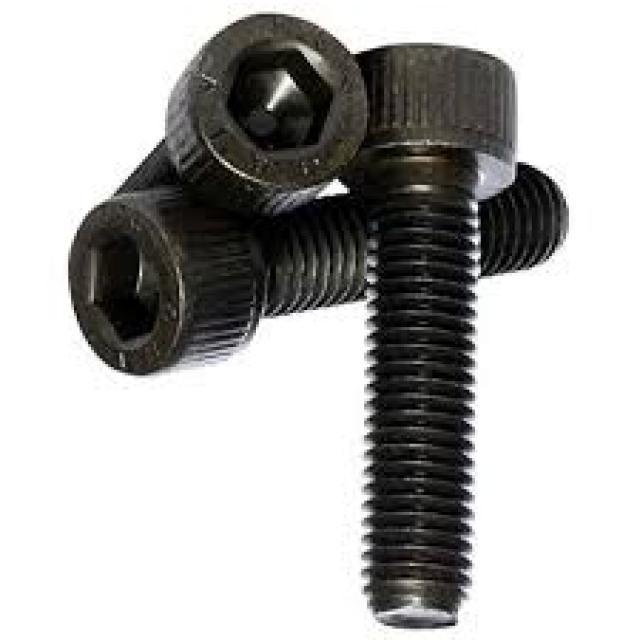allen: (164, 14, 368, 214), (66, 198, 191, 378)
